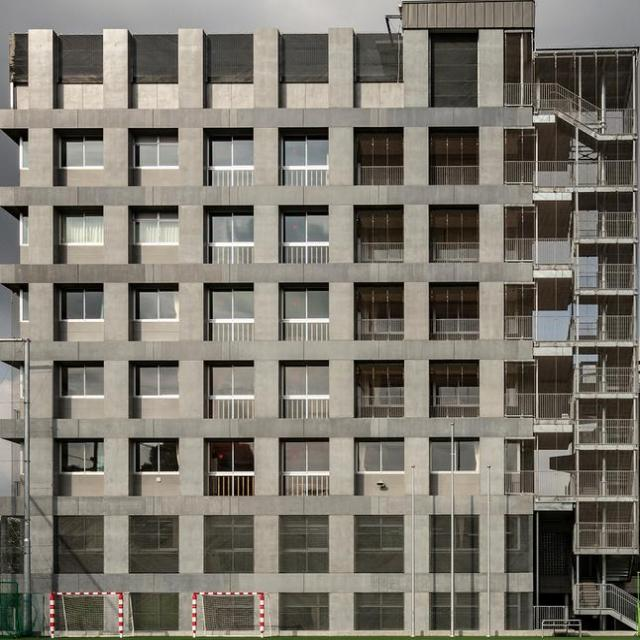Railing: (503, 84, 637, 139), (506, 318, 636, 344), (503, 473, 637, 498), (506, 161, 636, 186), (578, 586, 637, 628), (503, 394, 572, 421), (502, 237, 572, 262), (574, 368, 636, 394), (575, 213, 636, 238), (575, 524, 636, 549), (573, 265, 634, 289), (577, 420, 635, 445), (207, 472, 256, 497), (282, 473, 330, 497), (282, 398, 328, 422), (279, 165, 329, 186), (430, 243, 479, 264), (430, 398, 478, 419), (280, 246, 330, 266), (208, 321, 253, 343), (356, 244, 403, 265), (429, 322, 478, 342), (208, 398, 254, 419), (208, 246, 256, 266), (282, 322, 329, 342), (429, 167, 478, 186), (358, 322, 404, 342), (354, 166, 405, 184), (356, 400, 405, 418), (206, 168, 254, 186)
wall: (0, 0, 637, 636)
windows: (428, 516, 480, 575), (203, 515, 253, 574), (354, 520, 404, 577), (278, 518, 327, 576), (130, 515, 177, 574), (54, 519, 101, 574), (278, 593, 332, 636), (422, 592, 477, 632), (196, 595, 252, 634), (53, 595, 102, 635), (356, 594, 406, 633), (130, 595, 178, 633), (130, 211, 180, 245), (430, 442, 480, 476), (128, 138, 181, 170), (134, 289, 180, 325), (282, 287, 329, 322), (60, 364, 104, 401), (58, 213, 104, 248), (133, 365, 179, 400), (60, 441, 106, 476), (352, 441, 400, 474), (59, 289, 104, 324), (283, 213, 329, 247), (134, 441, 179, 475), (283, 441, 328, 474), (206, 441, 253, 471), (209, 215, 253, 247), (209, 366, 253, 398), (283, 366, 328, 397), (211, 288, 253, 320), (60, 137, 103, 168), (283, 136, 326, 166), (208, 139, 254, 167), (363, 372, 403, 399), (434, 374, 477, 398), (433, 303, 477, 321), (429, 229, 480, 243), (365, 303, 404, 321), (359, 228, 401, 244)
